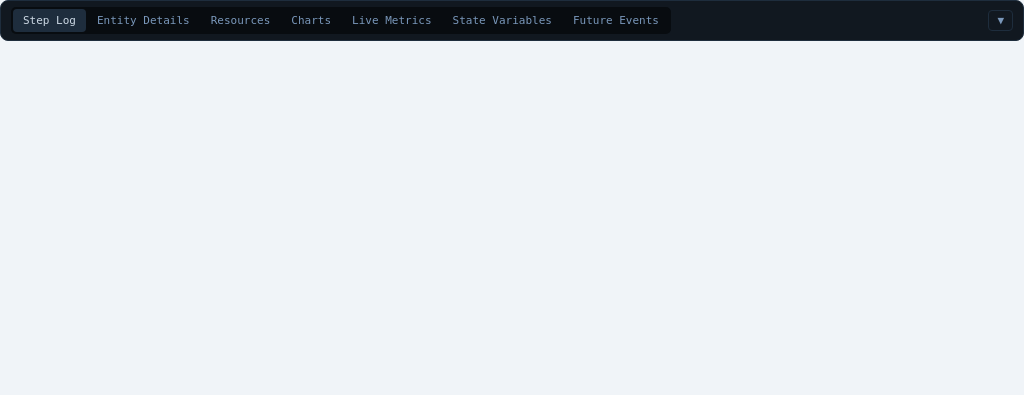
Test: BottomPanel — F9C.9 live metrics › Live Metrics tab shows queue row and server row
The width and height of the screenshot is (1024, 395).
Click the tab "Live Metrics": point(392, 20) [342,9,442,32]
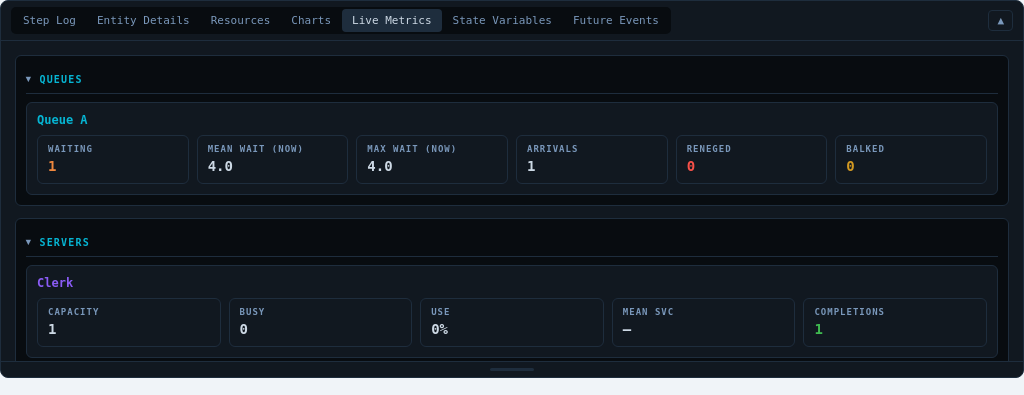
Check: the text "Queue A" is shown, box [37,113,88,127]
Check: the text "Clerk" is shown, box [37,276,73,290]
